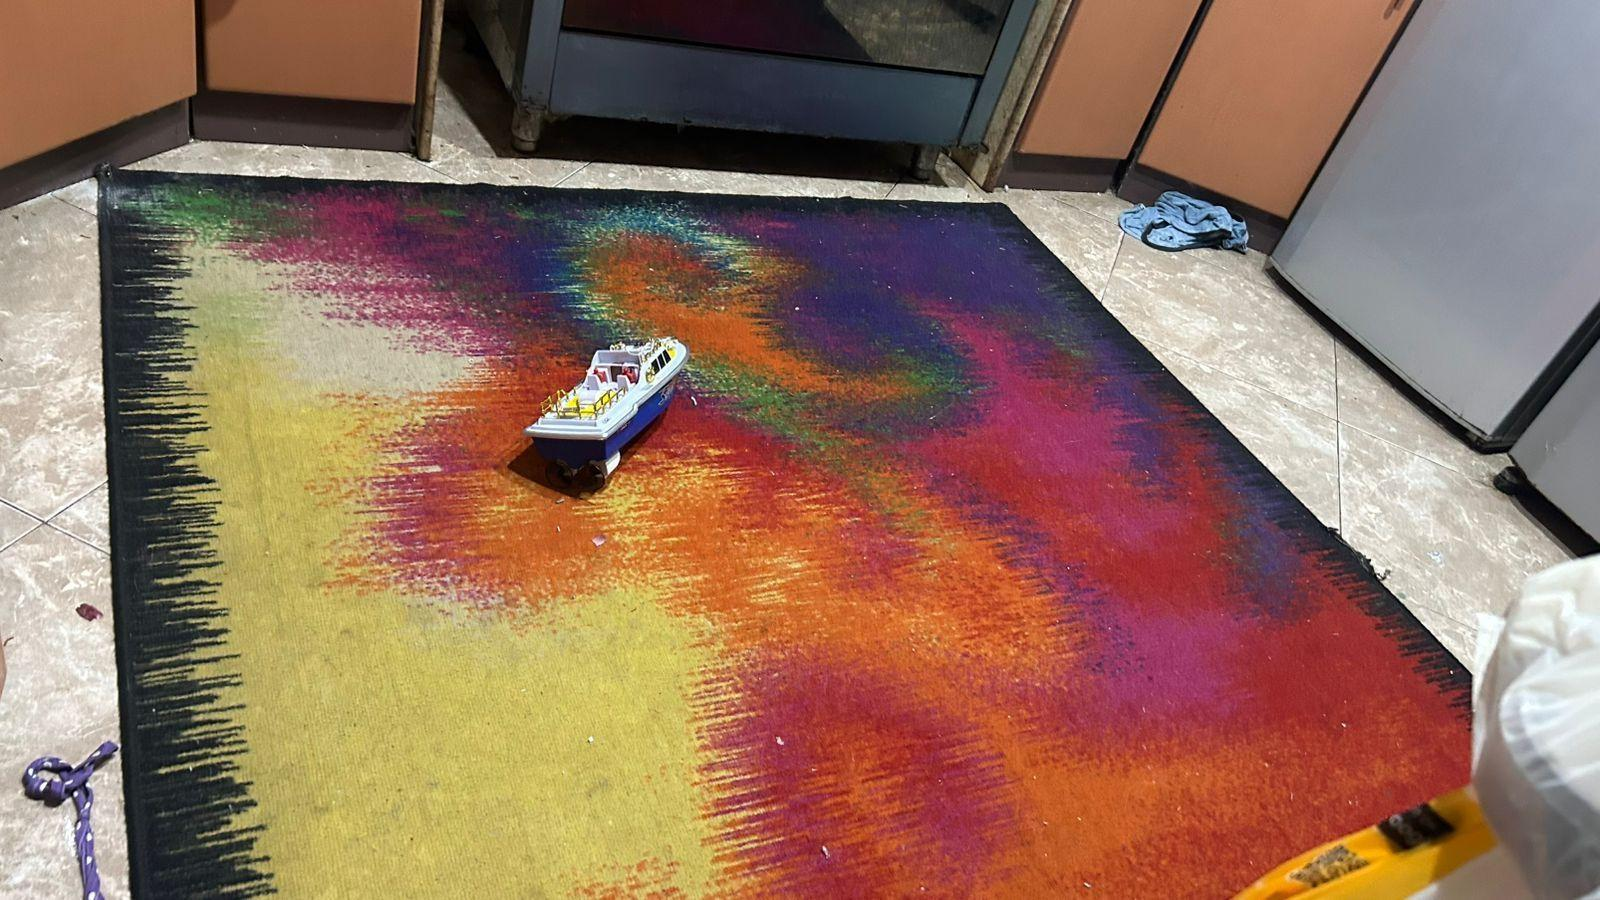Boat: (522, 324, 692, 491)
